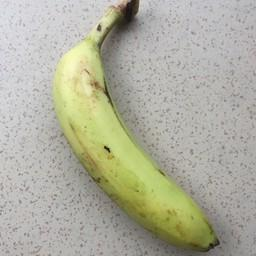Good_banana: (54, 0, 223, 256)
